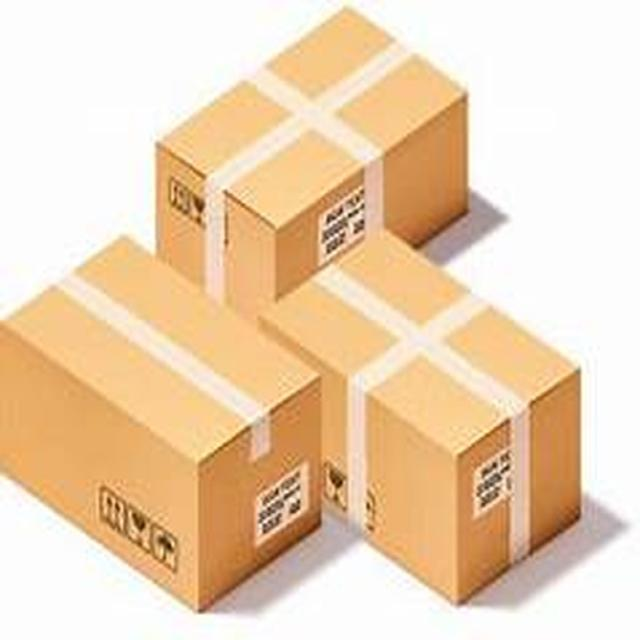box: (226, 188, 600, 640), (0, 218, 337, 624)
